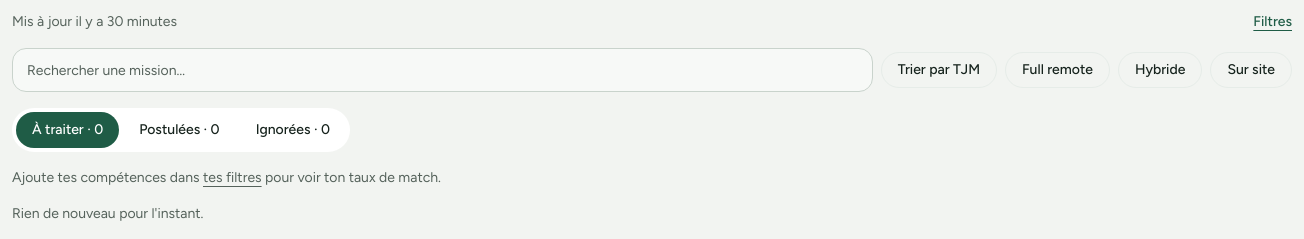
it: OpportunitiesBoard › shows the filtered empty state once a remote mode is selected
Click the button "Hybride": click(1160, 70) [1118,52,1202,88]
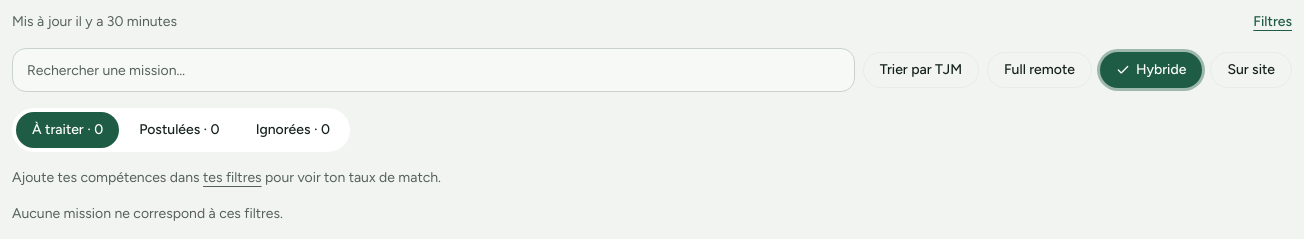
expect the text "Aucune mission ne correspond à ces filtres." is shown: met, box [12,205,283,222]
